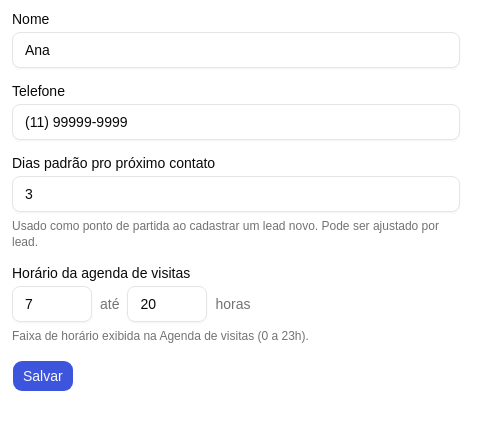
Test: ConfiguracoesForm › bloqueia salvar com horário final antes do inicial
Replace the text in the number field named "Horário final" with "5": point(168, 304) [128, 286, 208, 322]
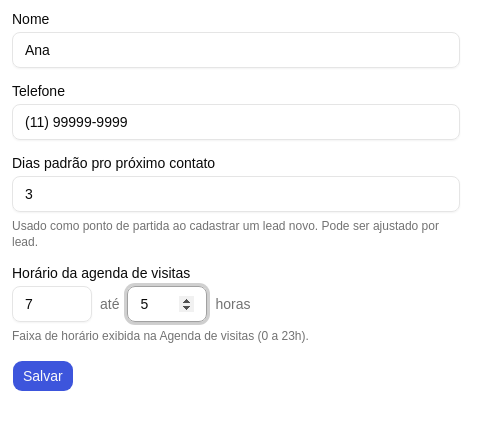
Click the button "Salvar": point(43, 376) [12, 360, 74, 392]
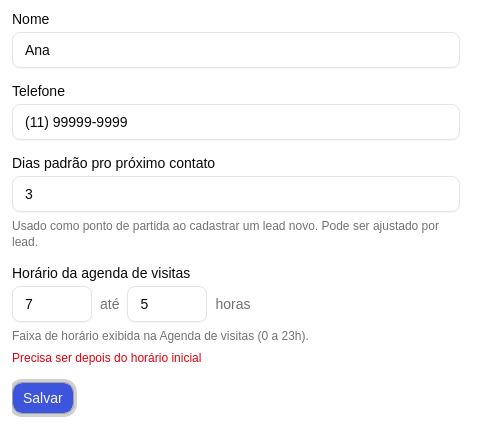
Expected: the text "Precisa ser depois do horário inicial" is shown, [12, 351, 201, 365]
